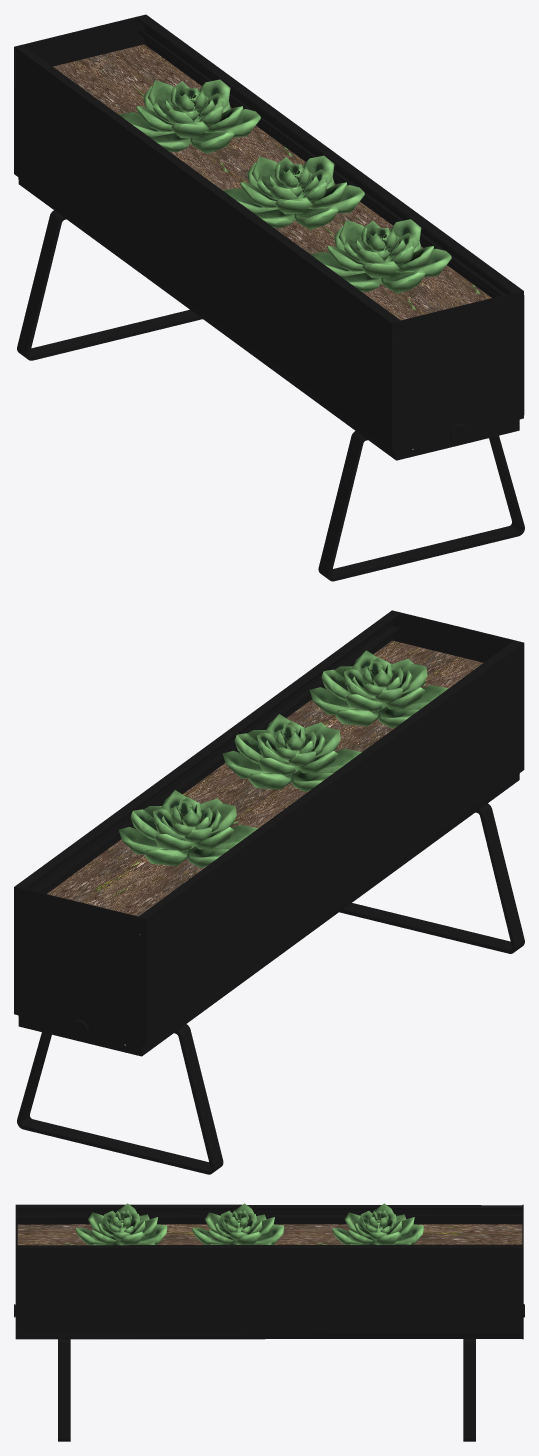
The model's file is largo_floor_wide_3.glb.
The picture shows the model from 3 angles, top to bottom: view 1: azimuth 30°, elevation 25°; view 2: azimuth 150°, elevation 25°; view 3: azimuth 270°, elevation 25°; orthographic projection. The views are drawn at different scales.
Visible parts, largest first — view 1: ext, flat_cover_side_ext_7-4-24.001, Plane.001, succulent plant.005, succulent plant.003, succulent plant.004, ext_floor_wide_middel_size, ext_floor_wide_middel_size.001, flat_cover_side_ext_7-4-24; view 2: ext, flat_cover_side_ext_7-4-24, Plane.001, succulent plant.005, succulent plant.003, succulent plant.004, ext_floor_wide_middel_size.001, ext_floor_wide_middel_size, flat_cover_side_ext_7-4-24.001; view 3: ext, Plane.001, succulent plant.004, succulent plant.003, succulent plant.005, ext_floor_wide_middel_size, ext_floor_wide_middel_size.001.
Part boxes in pixels (x1=…): ext: x1=14, y1=15, x2=522, y2=459; flat_cover_side_ext_7-4-24.001: x1=391, y1=290, x2=524, y2=460; Plane.001: x1=53, y1=44, x2=491, y2=320; succulent plant.005: x1=119, y1=79, x2=260, y2=153; succulent plant.003: x1=223, y1=155, x2=364, y2=229; succulent plant.004: x1=310, y1=219, x2=451, y2=293; ext_floor_wide_middel_size: x1=318, y1=431, x2=524, y2=581; ext_floor_wide_middel_size.001: x1=17, y1=210, x2=202, y2=360; flat_cover_side_ext_7-4-24: x1=14, y1=14, x2=146, y2=184; ext: x1=15, y1=611, x2=523, y2=1055; flat_cover_side_ext_7-4-24: x1=14, y1=886, x2=146, y2=1056; Plane.001: x1=47, y1=640, x2=483, y2=934; succulent plant.005: x1=119, y1=790, x2=257, y2=867; succulent plant.003: x1=223, y1=714, x2=361, y2=791; succulent plant.004: x1=309, y1=650, x2=448, y2=728; ext_floor_wide_middel_size.001: x1=17, y1=1024, x2=223, y2=1174; ext_floor_wide_middel_size: x1=339, y1=803, x2=524, y2=953; flat_cover_side_ext_7-4-24.001: x1=391, y1=610, x2=524, y2=779; ext: x1=16, y1=1204, x2=522, y2=1339; Plane.001: x1=17, y1=1224, x2=522, y2=1245; succulent plant.004: x1=75, y1=1203, x2=167, y2=1245; succulent plant.003: x1=192, y1=1203, x2=284, y2=1244; succulent plant.005: x1=332, y1=1203, x2=423, y2=1244; ext_floor_wide_middel_size: x1=58, y1=1339, x2=70, y2=1441; ext_floor_wide_middel_size.001: x1=463, y1=1339, x2=475, y2=1441.
Size of the model in its own units: 3.02 by 4.32 by 10.1.
3 materials, 2 textured.
